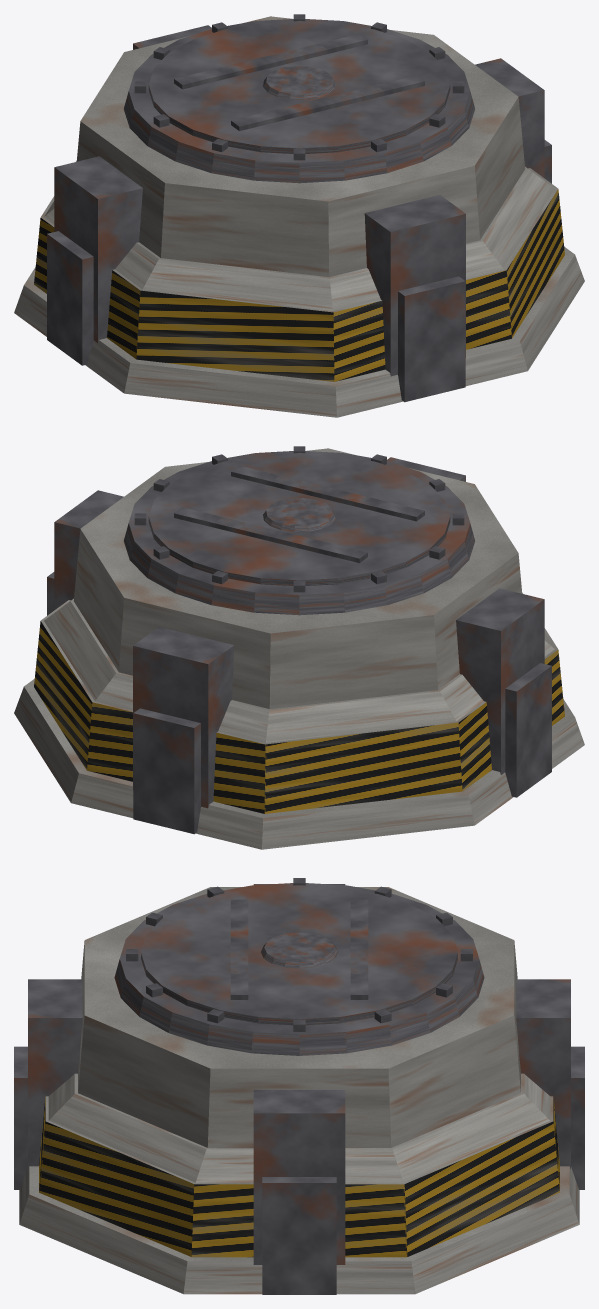
The model's file is TurretBase.obj.
The picture shows the model from 3 angles, top to bottom: view 1: azimuth 30°, elevation 25°; view 2: azimuth 150°, elevation 25°; view 3: azimuth 270°, elevation 25°; orthographic projection. The views are drawn at different scales.
Visible parts, largest first — view 1: TurretBase; view 2: TurretBase; view 3: TurretBase.
Boxes of the visible parts, left/top/right/bottom form: TurretBase: left=14, top=14, right=584, bottom=417; TurretBase: left=14, top=446, right=584, bottom=849; TurretBase: left=14, top=878, right=584, bottom=1294.
Bounding box in the file's own units: 3.24 × 1.43 × 3.24.
Materials: 3 (3 with a texture image).
